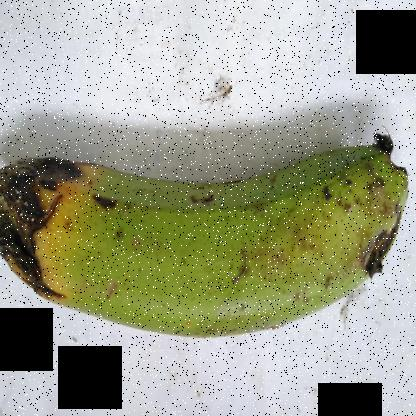rotten: (0, 142, 116, 341)
unripe: (86, 124, 416, 367)
